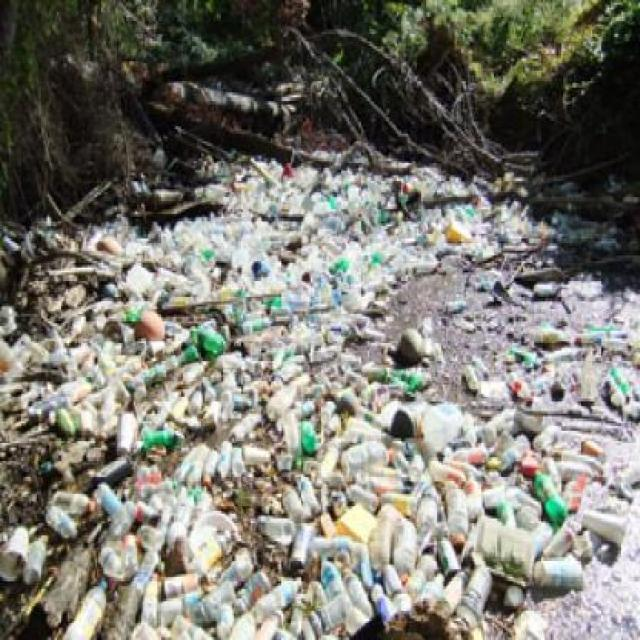garbage: (62, 180, 320, 626), (286, 423, 622, 588), (306, 148, 442, 267)
